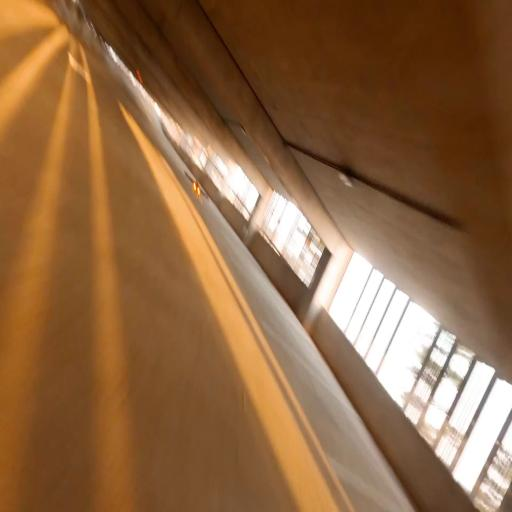uav: (181, 164, 212, 210)
